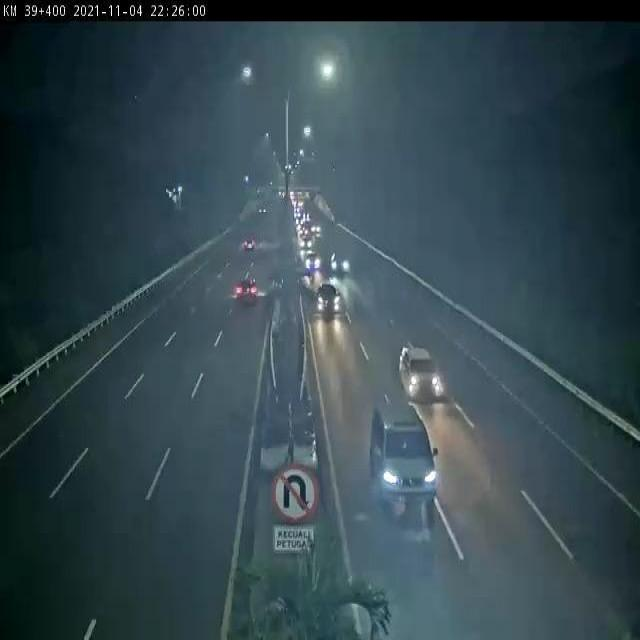car: (372, 404, 437, 508), (401, 348, 442, 399), (318, 287, 343, 313), (330, 252, 350, 275), (238, 280, 256, 299), (306, 255, 323, 269), (246, 238, 256, 250), (299, 227, 308, 236), (313, 223, 320, 233), (303, 239, 311, 245)
